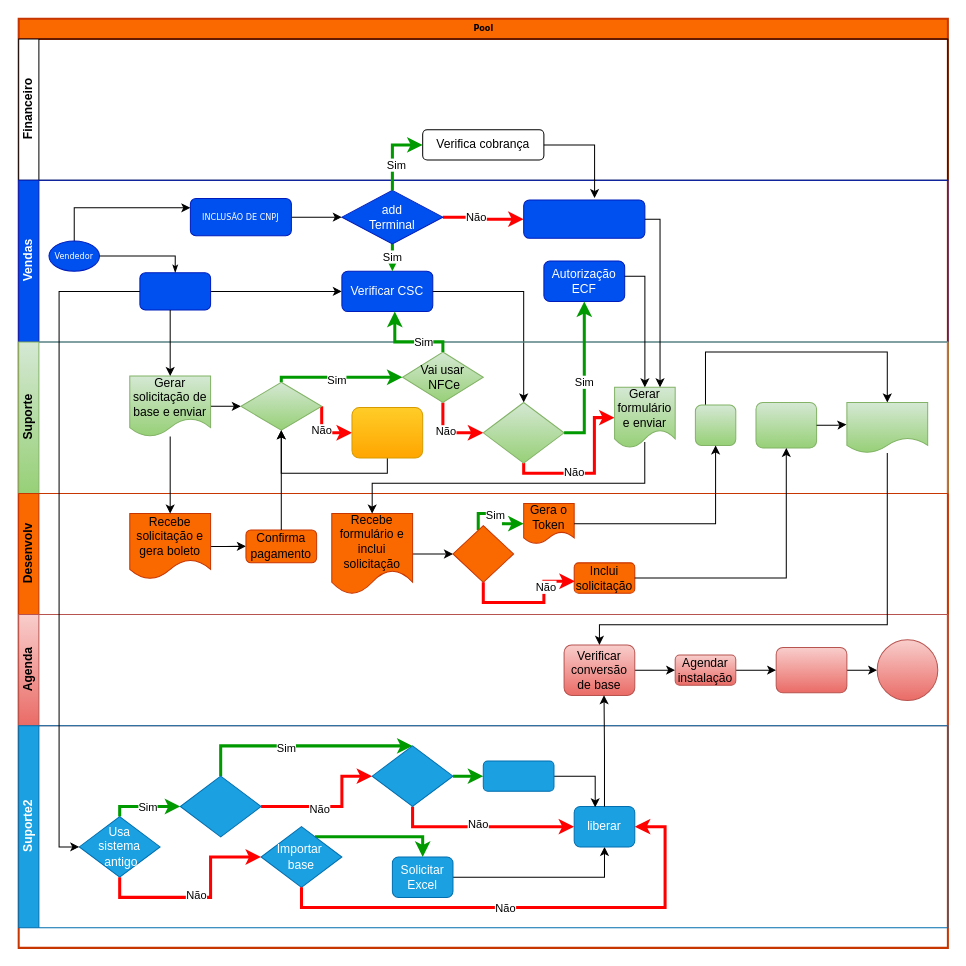
Image size: 966x966. Some labels were removed from this diagram. The shapes that lost their labels are listed below. From the top down, each one's centre as x and y in pixels, then its label:
At point 584,218: "Cadastra inclusão".
At point 175,291: "NOVA BASE".
At point 281,405: "Pagamento".
At point 715,424: "Anexa o token".
At point 786,424: "Verifica solicitação".
At point 387,432: "Enviar mensagem de cobrança".
At point 523,432: "Vai usar ECF".
At point 887,427: "Enviar para agendamento".
At point 483,553: "Base nova".
At point 811,669: "Confirmar instalação concluída".
At point 907,669: "Finalizar".
At point 412,775: "Converter Estoque".
At point 518,775: "Realizar conversão".
At point 220,806: "Converter base".
